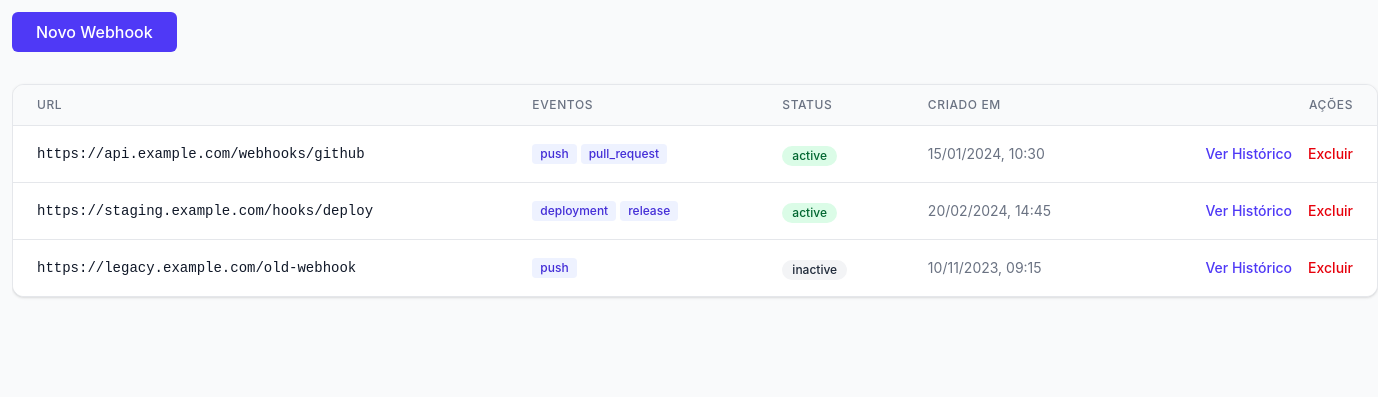
Webhooks Page - Interactions › shows error when delete fails
Click the button "Excluir" in the row of "https://api.example.com/webhooks/github". click: [1331, 154]
box: [1308, 144, 1353, 164]
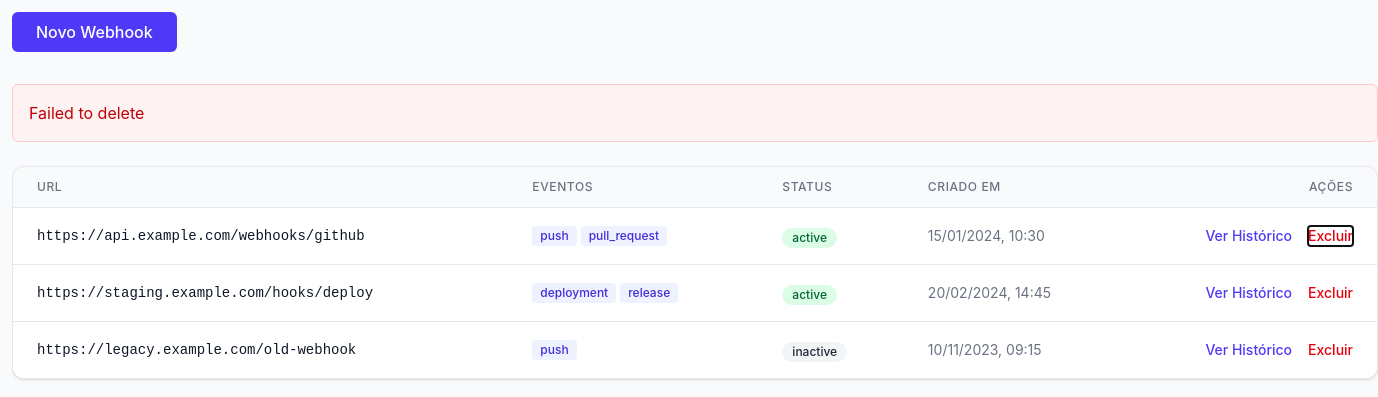
expect the text "Failed to delete" is shown: met, box [12, 84, 1377, 142]
